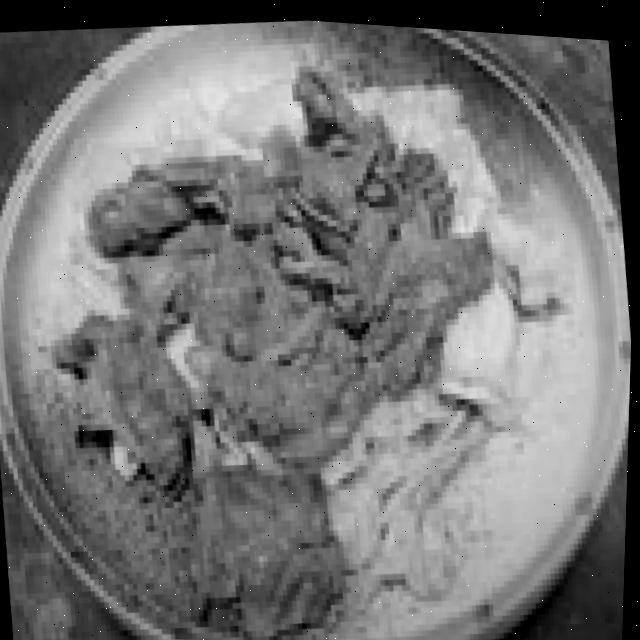蔬菜料理: (4, 52, 577, 640)
